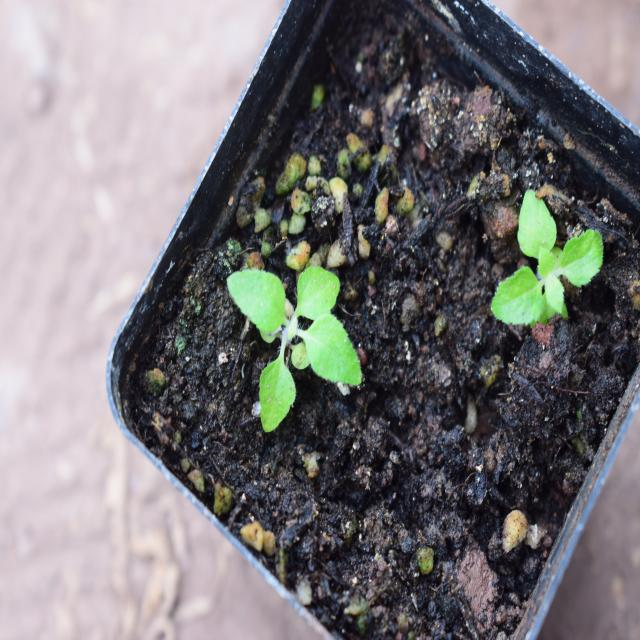billygoat_weed: (227, 250, 367, 439), (484, 168, 612, 357)
